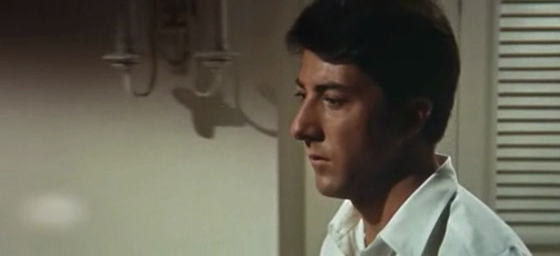cu: (1, 1, 560, 256)
face: (288, 51, 386, 197)
person: (283, 1, 533, 256)
